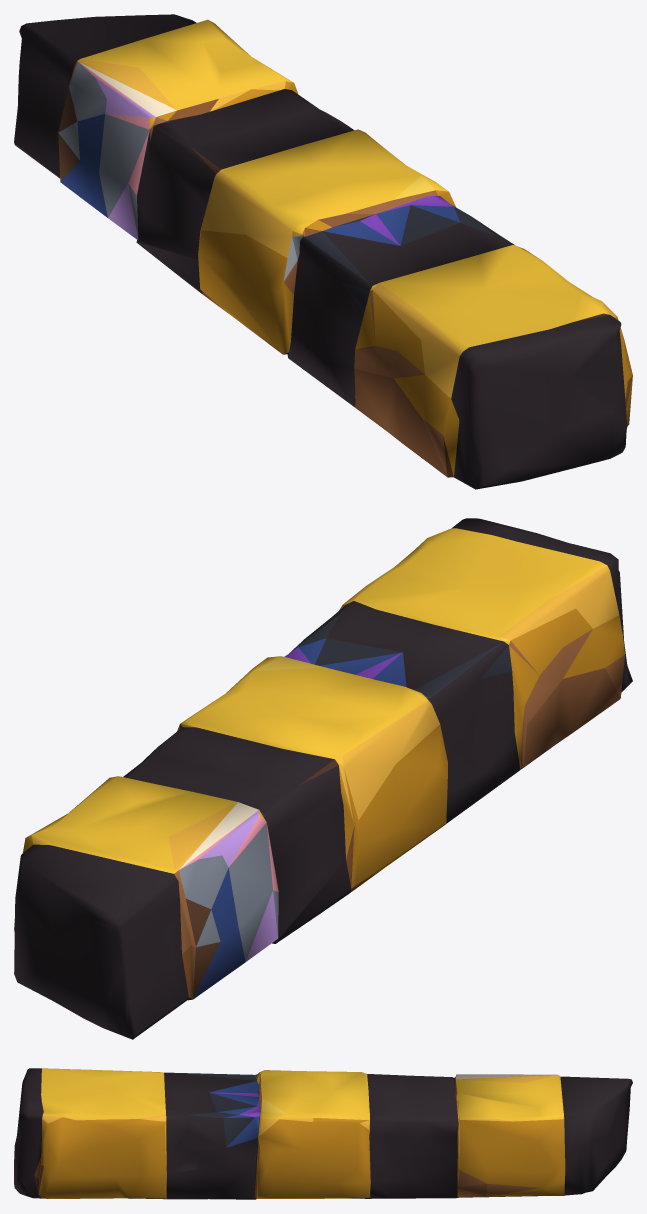
File: SM_parking_block.fbx
3 views of the same model, one above another, from view 1: azimuth 30°, elevation 25°; view 2: azimuth 150°, elevation 25°; view 3: azimuth 270°, elevation 25° (orthographic). The views are drawn at different scales.
Visible parts, largest first — view 1: SM_parking_block; view 2: SM_parking_block; view 3: SM_parking_block.
Boxes of the visible parts, x1,y1,x2,y2 form: SM_parking_block: [14, 14, 632, 489]; SM_parking_block: [14, 518, 632, 1039]; SM_parking_block: [14, 1068, 632, 1199].
Bounding box in the file's own units: 38.59 × 25 × 165.
Materials: 1 (1 with a texture image).
